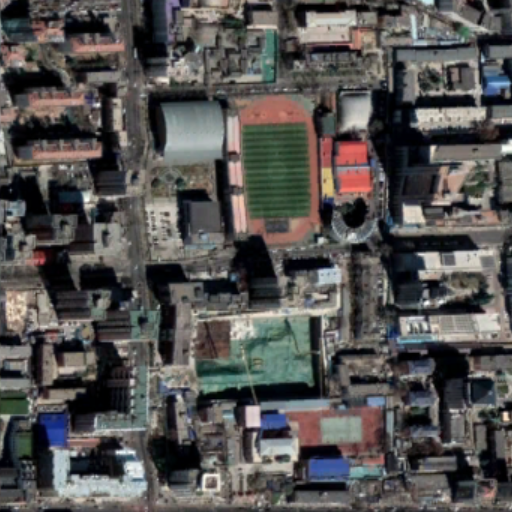cw: (187, 313, 322, 405)
